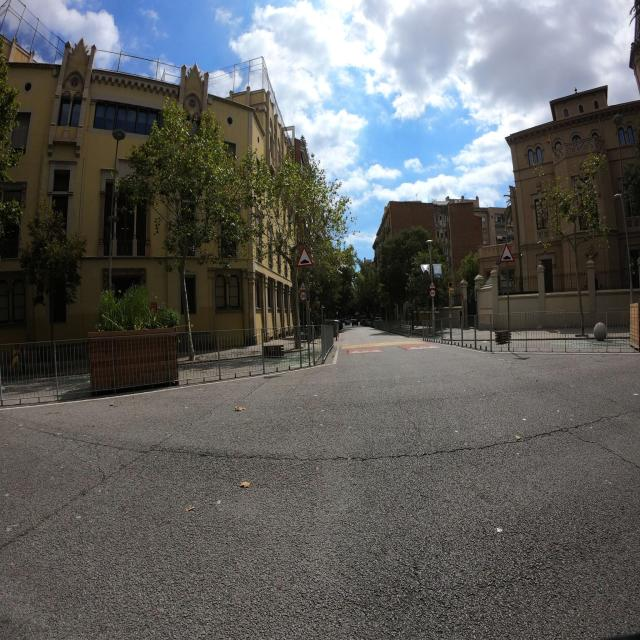car: (350, 317, 360, 327), (366, 316, 374, 328)
